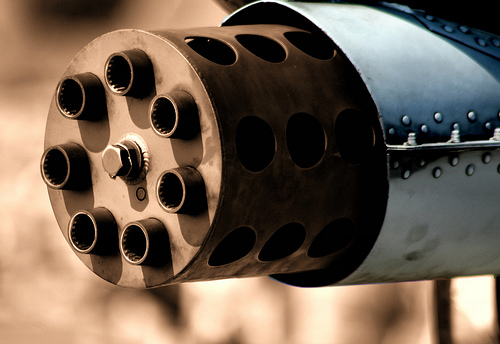rifle: (48, 18, 489, 297)
